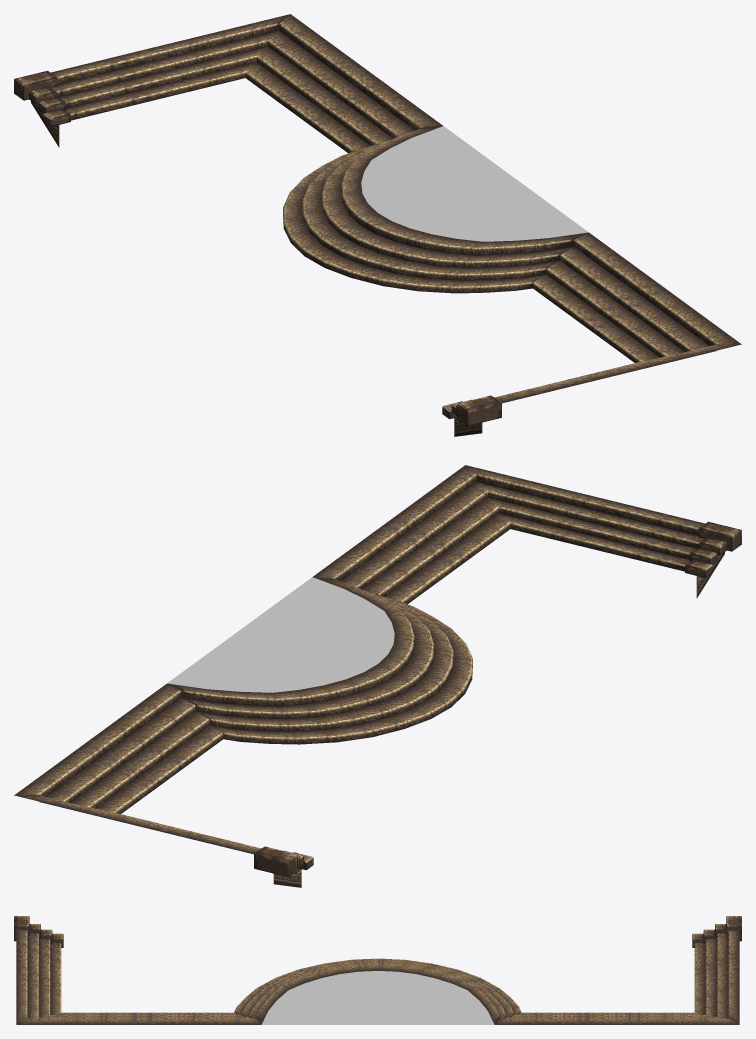
Rendered from EnvMdrMD_Ruins_A_Unique_A.FBX.
3 views of the same model, one above another, from view 1: azimuth 30°, elevation 25°; view 2: azimuth 150°, elevation 25°; view 3: azimuth 270°, elevation 25° (orthographic). The views are drawn at different scales.
Parts seen in each view (by area): view 1: EnvMdrMD_Ruins_A_Unique_A; view 2: EnvMdrMD_Ruins_A_Unique_A; view 3: EnvMdrMD_Ruins_A_Unique_A.
Part boxes in pixels (box(x1,y1,x2,y2)): EnvMdrMD_Ruins_A_Unique_A: box(14, 14, 741, 436); EnvMdrMD_Ruins_A_Unique_A: box(14, 465, 741, 887); EnvMdrMD_Ruins_A_Unique_A: box(14, 916, 741, 1024).
Size of the model in its own units: 1126 by 204 by 3220.
